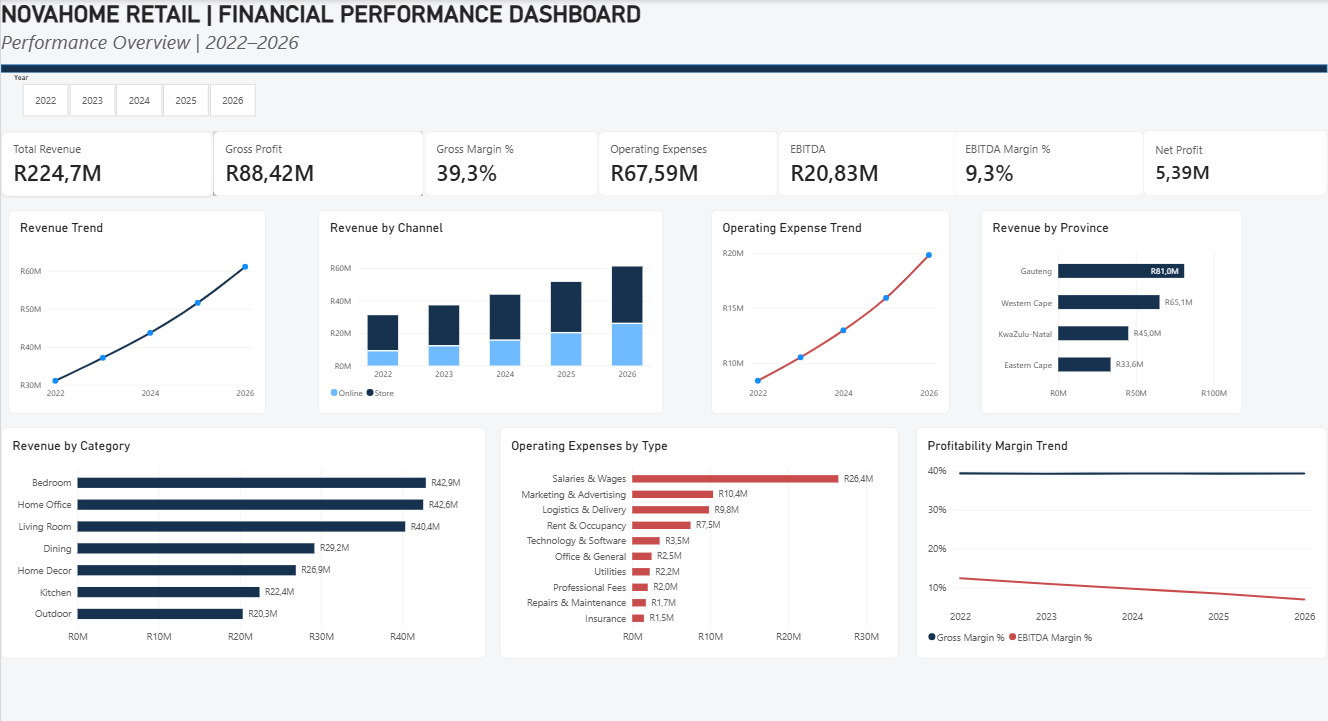

The dashboard page shown, as its layout file describes it:
{"tool":"powerbi","page":{"name":"Page 1","canvas":[1920,1080],"ordinal":0},"visuals":[{"type":"cardVisual","fields":{"Data":["Sales_Data.Total Revenue"]},"box":[0,190,307.6,94.1],"z":0},{"type":"slicer","fields":{"Values":["Dim_Date.Year"]},"box":[10.9,105,376.4,65.1],"z":1000},{"type":"cardVisual","fields":{"Data":["Sales_Data.Gross Profit"]},"box":[307.6,190,304,94.1],"z":2000},{"type":"cardVisual","fields":{"Data":["Expenses_Data.Operating Expenses"]},"box":[865,190,260.6,94.1],"z":3000},{"type":"cardVisual","fields":{"Data":["Dim_Category.EBITDA"]},"box":[1125.6,190,267.8,94.1],"z":4000},{"type":"cardVisual","fields":{"Data":["Dim_Category.EBITDA Margin %"]},"box":[1379,190,275.1,94.1],"z":5000},{"type":"cardVisual","fields":{"Data":["Dim_Category.Gross Margin %"]},"box":[613.5,190,251.5,94.1],"z":6000},{"type":"lineChart","title":"Profitability Margin Trend","fields":{"Category":["Dim_Date.Year"],"Y":["Dim_Category.Gross Margin %","Dim_Category.EBITDA Margin %"]},"box":[1324.7,618.9,595.4,334.8],"z":7000},{"type":"lineChart","title":"Revenue Trend","fields":{"Category":["Dim_Date.Year"],"Y":["Sales_Data.Total Revenue"]},"box":[10.9,304,372.8,295],"z":8000},{"type":"lineChart","title":"Operating Expense Trend","fields":{"Category":["Dim_Date.Year"],"Y":["Expenses_Data.Operating Expenses"]},"box":[1027.9,304,345.6,295],"z":9000},{"type":"clusteredBarChart","title":"Operating Expenses by Type","fields":{"Category":["Expenses_Data.Expense_Type"],"Y":["Expenses_Data.Operating Expenses"]},"box":[722.1,618.9,577.3,334.8],"z":10000},{"type":"columnChart","title":"Revenue by Channel","fields":{"Category":["Dim_Date.Year"],"Series":["T_Channels.Channel"],"Y":["Sales_Data.Total Revenue"]},"box":[459.7,304,499.5,295],"z":11000},{"type":"clusteredBarChart","title":"Revenue by Category","fields":{"Category":["Dim_Category.Category"],"Y":["Sales_Data.Total Revenue"]},"box":[0,618.9,702.1,334.8],"z":12000},{"type":"clusteredBarChart","title":"Revenue by Province","fields":{"Category":["T_Regions.Province"],"Y":["Sales_Data.Total Revenue"]},"box":[1418.8,304,378.2,295],"z":13000},{"type":"shape","title":"NOVAHOME RETAIL | FINANCIAL PERFORMANCE DASHBOARD","box":[0,0,1920.1,105],"z":14000},{"type":"cardVisual","fields":{"Data":["Dim_Category.Net Profit"]},"box":[1654,188.2,266,95.9],"z":15001}]}

Visuals, with their boxes on the page's 1920x1080 design canvas (x1, y1, x2, y2). These are canvas units, not pixel positions in the 1328x721 screenshot, which may show the page scaled, cropped or inside an application window:
cardVisual - Sales_Data.Total Revenue: [0, 190, 308, 284]
slicer - Dim_Date.Year: [11, 105, 387, 170]
cardVisual - Sales_Data.Gross Profit: [308, 190, 612, 284]
cardVisual - Expenses_Data.Operating Expenses: [865, 190, 1126, 284]
cardVisual - Dim_Category.EBITDA: [1126, 190, 1393, 284]
cardVisual - Dim_Category.EBITDA Margin %: [1379, 190, 1654, 284]
cardVisual - Dim_Category.Gross Margin %: [614, 190, 865, 284]
"Profitability Margin Trend" lineChart: [1325, 619, 1920, 954]
"Revenue Trend" lineChart: [11, 304, 384, 599]
"Operating Expense Trend" lineChart: [1028, 304, 1374, 599]
"Operating Expenses by Type" clusteredBarChart: [722, 619, 1299, 954]
"Revenue by Channel" columnChart: [460, 304, 959, 599]
"Revenue by Category" clusteredBarChart: [0, 619, 702, 954]
"Revenue by Province" clusteredBarChart: [1419, 304, 1797, 599]
"NOVAHOME RETAIL | FINANCIAL PERFORMANCE DASHBOARD" shape: [0, 0, 1920, 105]
cardVisual - Dim_Category.Net Profit: [1654, 188, 1920, 284]
